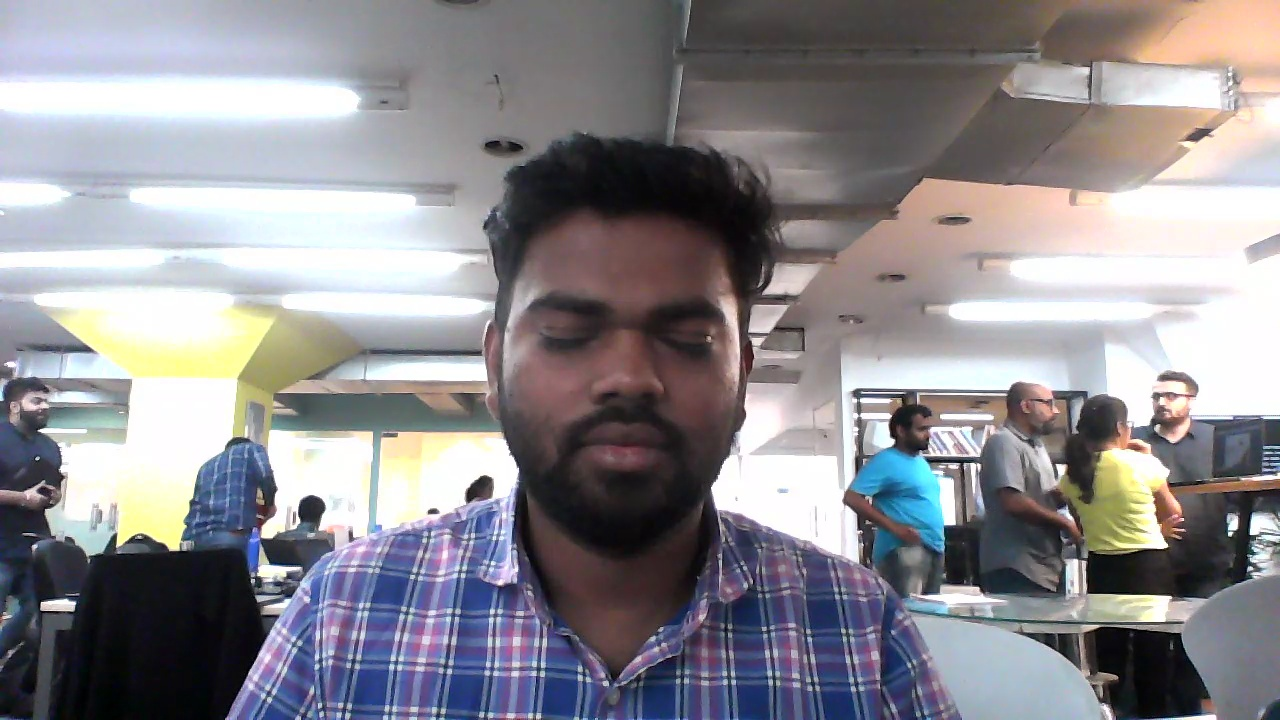closed: (475, 135, 766, 547)
